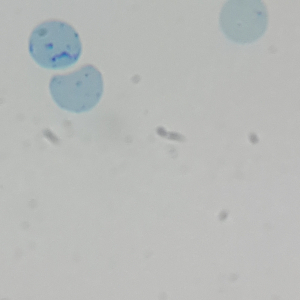aggregate reticulocyte: (27, 19, 83, 70)
punctate reticulocyte: (48, 64, 104, 114), (217, 1, 270, 45)
